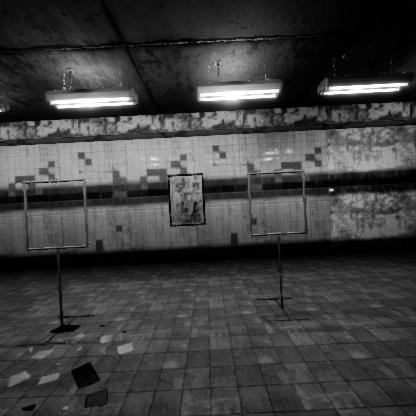gate: (23, 164, 94, 238), (247, 178, 312, 246)
